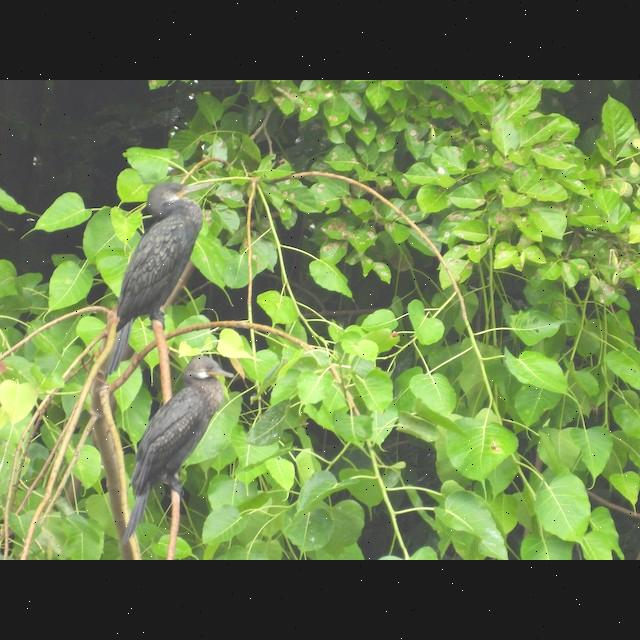cormorant: (85, 170, 219, 372), (115, 353, 245, 543)
